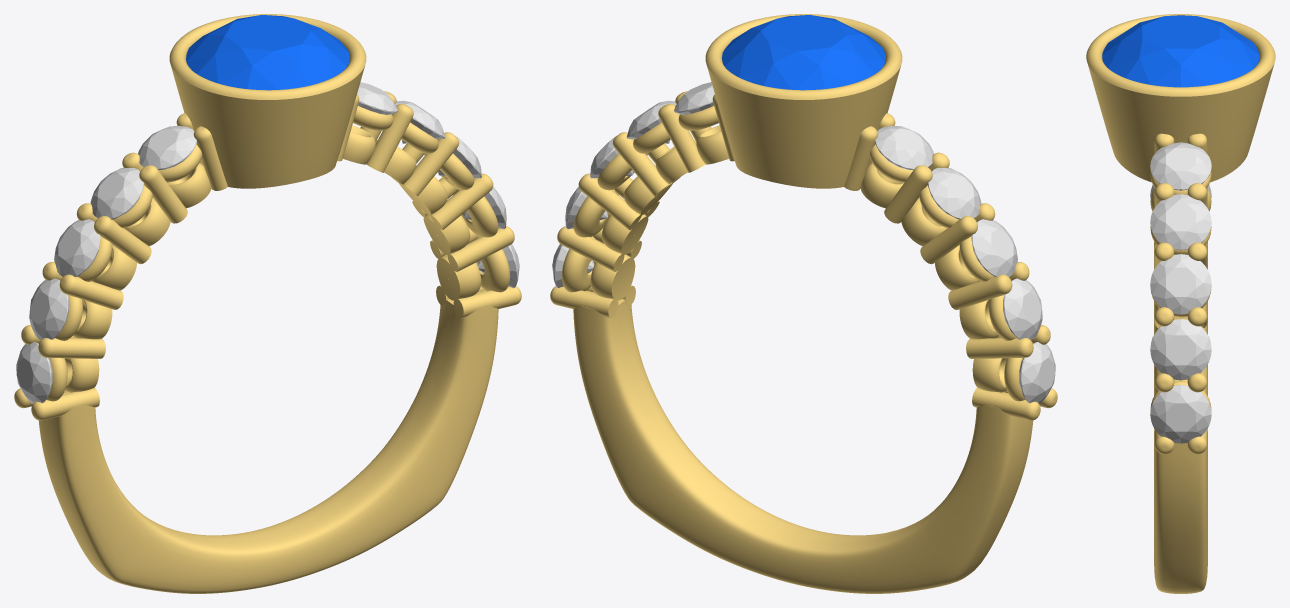
Rendered from bluesapphire-round-yellowgold-bezelset-europeanshank-11stone.glb.
3 renders of one model, left to right at view 1: azimuth 30°, elevation 25°; view 2: azimuth 150°, elevation 25°; view 3: azimuth 270°, elevation 25°, orthographic. The views are drawn at different scales.
Parts seen in each view (by area): view 1: metal, stone, side.002, side.001, side, side.003, side.004, side.005, side.006; view 2: metal, stone, side.002, side.001, side, side.003, side.004, side.005, side.006; view 3: metal, stone, side.008, side.007, side.009, side.006, side.005.
Boxes of the visible parts, box(x1,y1,x2,y2) form: metal: box(14, 14, 521, 593); stone: box(186, 15, 349, 90); side.002: box(54, 219, 100, 276); side.001: box(90, 167, 143, 219); side: box(138, 126, 196, 169); side.003: box(29, 278, 68, 339); side.004: box(16, 342, 52, 403); side.005: box(357, 82, 397, 114); side.006: box(395, 100, 445, 143); metal: box(550, 14, 1057, 593); stone: box(722, 15, 885, 90); side.002: box(971, 219, 1017, 276); side.001: box(928, 167, 981, 219); side: box(875, 126, 933, 169); side.003: box(1003, 278, 1042, 339); side.004: box(1019, 342, 1055, 403); side.005: box(674, 82, 714, 114); side.006: box(626, 100, 676, 143); metal: box(1086, 14, 1275, 593); stone: box(1102, 15, 1259, 87); side.008: box(1150, 319, 1211, 380); side.007: box(1150, 254, 1211, 314); side.009: box(1150, 385, 1211, 443); side.006: box(1150, 194, 1211, 250); side.005: box(1150, 142, 1211, 190).
Bounding box in the file's own units: 22.19 × 23.61 × 7.74.
